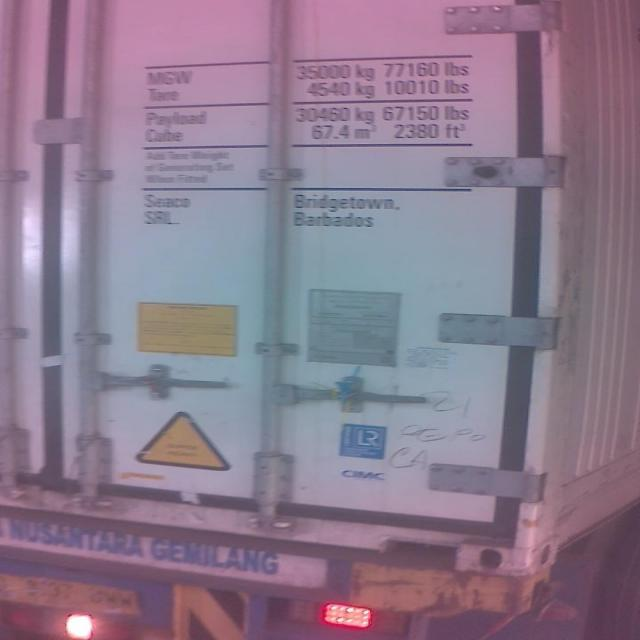seal: (329, 365, 368, 406), (144, 372, 166, 402)
